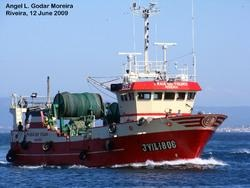otherboat: (3, 1, 229, 168)
